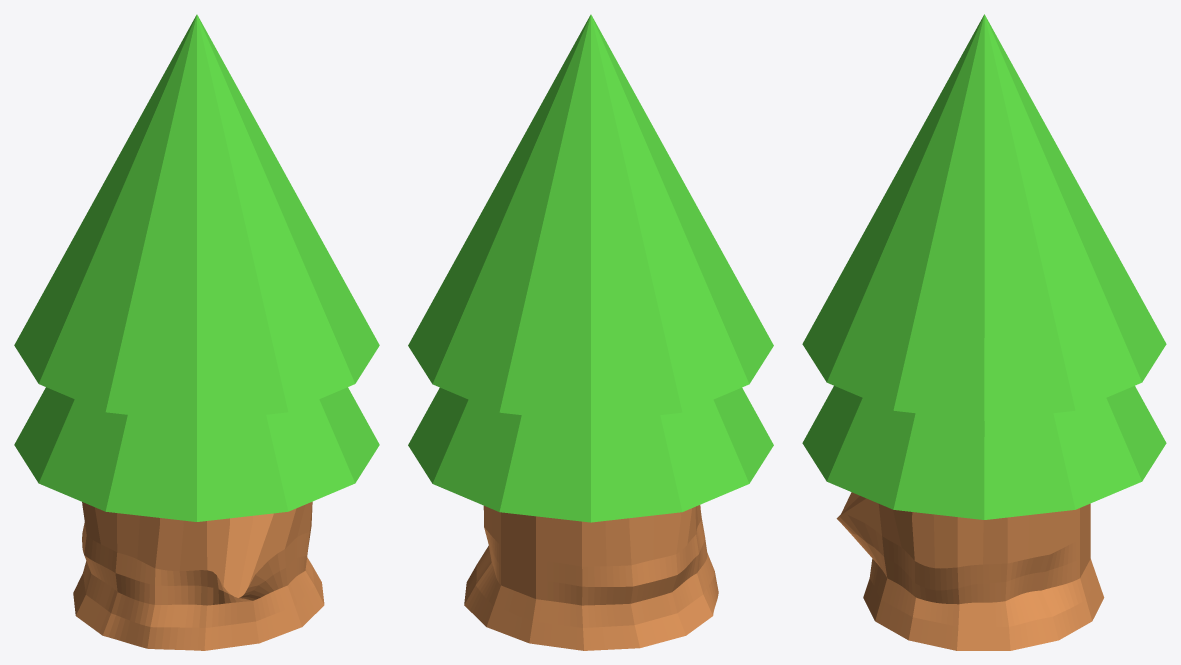
Rendered from Tree - Copy.fbx.
3 renders of one model, left to right at view 1: azimuth 30°, elevation 25°; view 2: azimuth 150°, elevation 25°; view 3: azimuth 270°, elevation 25°, orthographic.
Parts seen in each view (by area): view 1: Cone.001, Cone, Cylinder; view 2: Cone.001, Cone, Cylinder; view 3: Cone.001, Cone, Cylinder.
Part boxes in pixels (bbox=[...]): Cone.001: bbox=[14, 14, 379, 422]; Cone: bbox=[14, 387, 379, 521]; Cylinder: bbox=[73, 501, 324, 650]; Cone.001: bbox=[408, 14, 773, 422]; Cone: bbox=[408, 387, 773, 522]; Cylinder: bbox=[464, 505, 718, 650]; Cone.001: bbox=[802, 14, 1166, 420]; Cone: bbox=[802, 386, 1166, 519]; Cylinder: bbox=[836, 492, 1104, 650].
Size of the model in its own units: 200 by 353 by 200.
